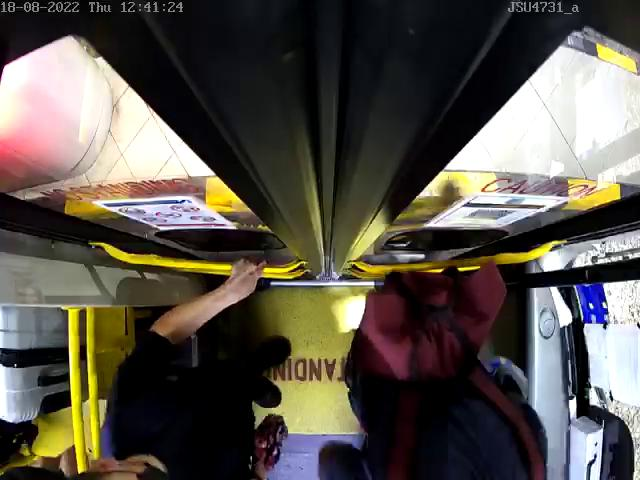close: (0, 0, 640, 201)
